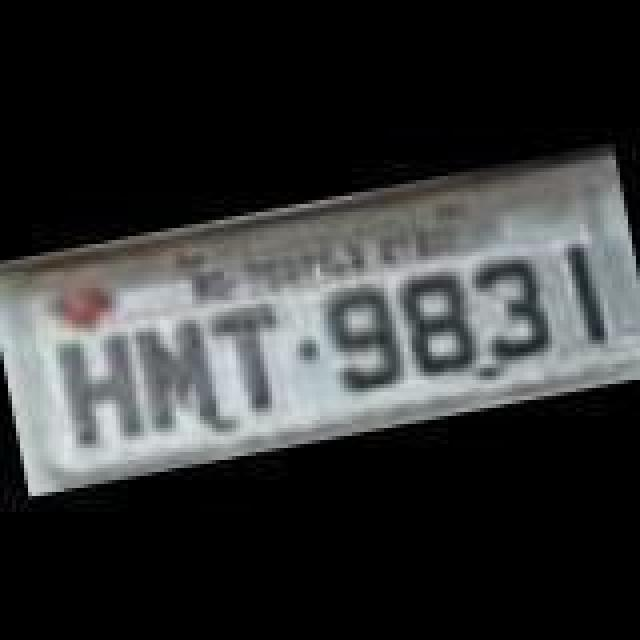1: (562, 234, 614, 350)
3: (466, 250, 558, 366)
8: (394, 264, 486, 384)
9: (314, 276, 406, 396)
H: (58, 332, 150, 452)
M: (128, 310, 224, 442)
T: (202, 300, 294, 420)
